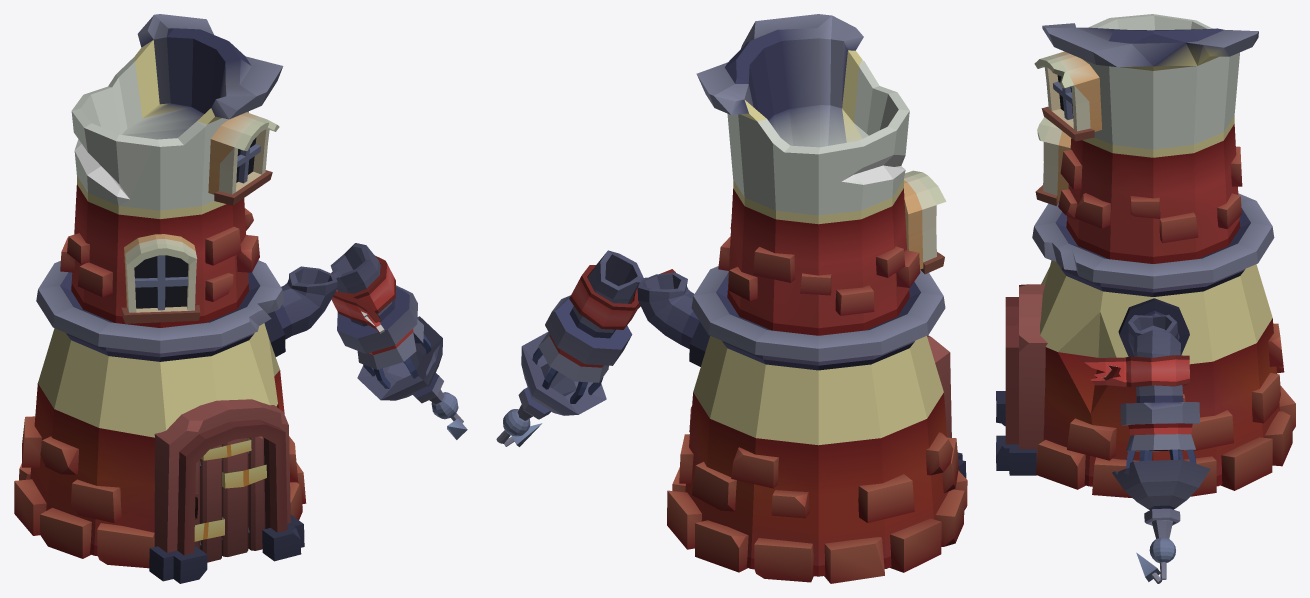
Rendered from LightHouseDamagedVersion3.fbx.
The picture shows the model from 3 angles, left to right: view 1: azimuth 30°, elevation 25°; view 2: azimuth 150°, elevation 25°; view 3: azimuth 270°, elevation 25°; orthographic projection. The views are drawn at different scales.
Parts seen in each view (by area): view 1: Plane; view 2: Plane; view 3: Plane.
Boxes of the visible parts, x1,y1,x2,y2 form: Plane: (14, 14, 467, 583); Plane: (496, 14, 967, 583); Plane: (996, 14, 1295, 583).
Size of the model in its own units: 958 by 955 by 585.
